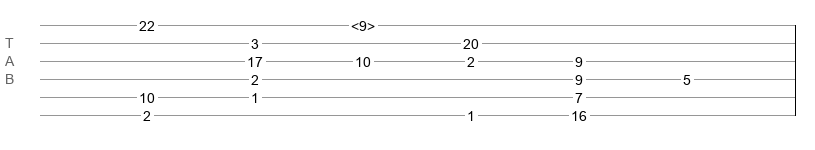1: (251, 90, 259, 100), (467, 108, 475, 118)
10: (139, 90, 155, 100), (355, 54, 371, 64)
16: (571, 108, 587, 118)
17: (247, 54, 263, 64)
2: (143, 108, 151, 118), (251, 72, 259, 82), (467, 54, 475, 64)
20: (463, 36, 479, 46)
22: (139, 18, 155, 28)
3: (251, 36, 259, 46)
5: (683, 72, 691, 82)
7: (575, 90, 583, 100)
9: (575, 72, 583, 82), (575, 54, 583, 64)
harmonic: (351, 18, 375, 28)
